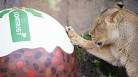lion: (69, 1, 138, 73)
